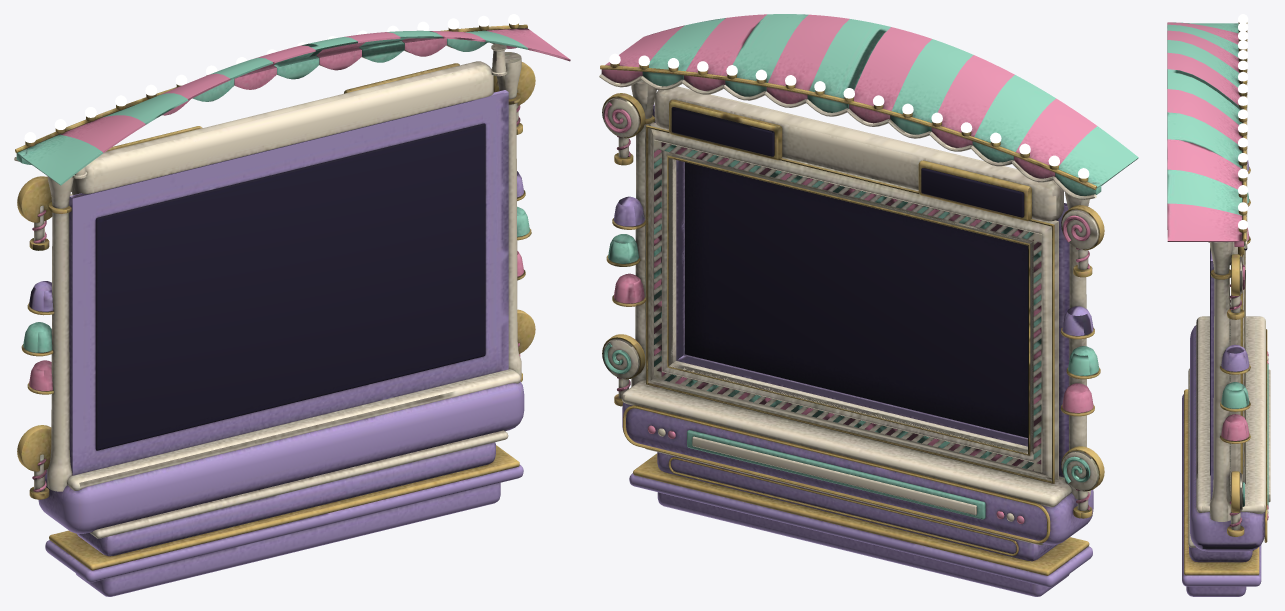
The picture shows the model from 3 angles, left to right: view 1: azimuth 30°, elevation 25°; view 2: azimuth 150°, elevation 25°; view 3: azimuth 270°, elevation 25°; orthographic projection. The views are drawn at different scales.
Visible parts, largest first — view 1: Blank_plum_display_glass, Lilac_enamel, Vanilla_porcelain_glaze, Champagne_piping, Mint_candy_glaze, Strawberry_candy_glaze, glow_canopy_bulbs; view 2: Blank_plum_display_glass, Vanilla_porcelain_glaze, Lilac_enamel, Mint_candy_glaze, Champagne_piping, Strawberry_candy_glaze, glow_canopy_bulbs; view 3: Vanilla_porcelain_glaze, Strawberry_candy_glaze, Mint_candy_glaze, Lilac_enamel, Champagne_piping, glow_canopy_bulbs, Blank_plum_display_glass.
Part boxes in pixels (<box>): Blank_plum_display_glass: <box>95,123,485,450</box>; Lilac_enamel: <box>29,90,524,596</box>; Vanilla_porcelain_glaze: <box>14,43,521,538</box>; Champagne_piping: <box>15,23,535,570</box>; Mint_candy_glaze: <box>16,30,529,352</box>; Strawberry_candy_glaze: <box>29,28,570,492</box>; glow_canopy_bulbs: <box>24,14,519,142</box>; Blank_plum_display_glass: <box>671,107,1027,437</box>; Vanilla_porcelain_glaze: <box>599,74,1098,545</box>; Lilac_enamel: <box>613,104,1093,596</box>; Mint_candy_glaze: <box>603,14,1138,519</box>; Champagne_piping: <box>600,63,1104,575</box>; Strawberry_candy_glaze: <box>601,14,1096,523</box>; glow_canopy_bulbs: <box>609,53,1089,178</box>; Vanilla_porcelain_glaze: <box>1188,51,1270,547</box>; Strawberry_candy_glaze: <box>1167,22,1268,526</box>; Mint_candy_glaze: <box>1167,22,1268,506</box>; Lilac_enamel: <box>1182,160,1264,596</box>; Champagne_piping: <box>1184,22,1267,575</box>; glow_canopy_bulbs: <box>1238,14,1248,229</box>; Blank_plum_display_glass: <box>1210,248,1247,475</box>.
Size of the model in its own units: 11.39 by 10.8 by 2.27.
7 materials, 6 textured.
